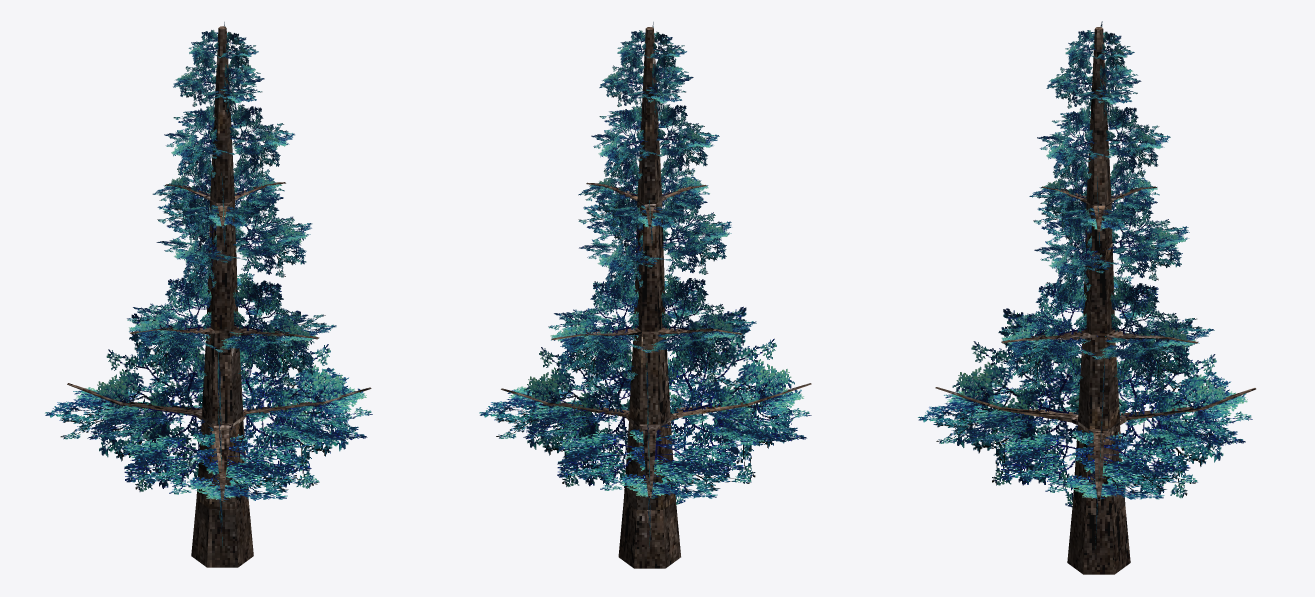
File: pixel_tree_lowpoly_blue.fbx
3 views of the same model, side by side, from view 1: azimuth 30°, elevation 25°; view 2: azimuth 150°, elevation 25°; view 3: azimuth 270°, elevation 25° (orthographic).
Visible parts, largest first — view 1: psx_foliage_blue, psx_tree_log, psx_foliage_blue2; view 2: psx_foliage_blue, psx_tree_log, psx_foliage_blue2; view 3: psx_foliage_blue, psx_tree_log, psx_foliage_blue2.
Part boxes in pixels (left/top/right/bottom): psx_foliage_blue: left=45, top=22, right=372, bottom=546; psx_tree_log: left=67, top=26, right=371, bottom=567; psx_foliage_blue2: left=49, top=30, right=372, bottom=541; psx_foliage_blue: left=479, top=22, right=811, bottom=547; psx_tree_log: left=501, top=27, right=811, bottom=568; psx_foliage_blue2: left=485, top=31, right=810, bottom=533; psx_foliage_blue: left=918, top=21, right=1252, bottom=548; psx_tree_log: left=935, top=27, right=1255, bottom=574; psx_foliage_blue2: left=923, top=32, right=1250, bottom=529.
Size of the model in its own units: 1128 by 1863 by 1302.
